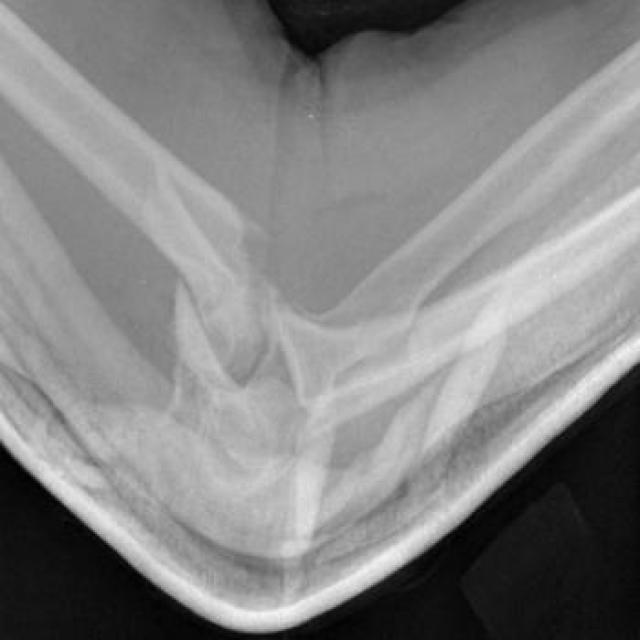Fracture: (170, 225, 301, 373)
